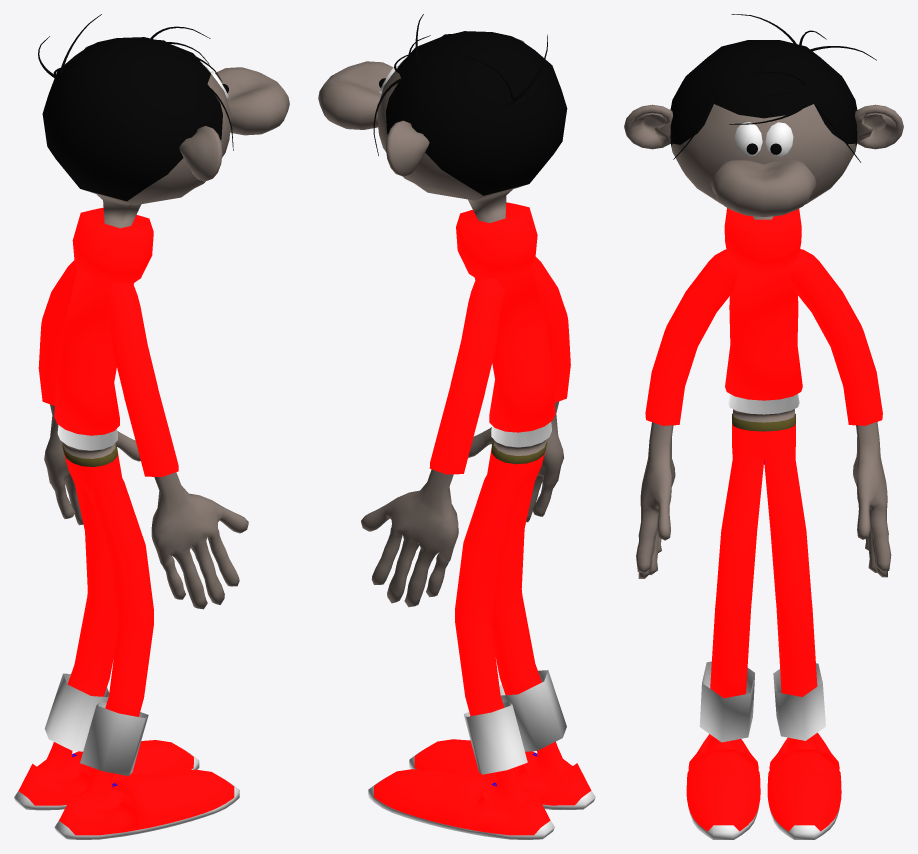
Rendered from spectator_red_short.dae.
3 views of the same model, side by side, from view 1: azimuth 30°, elevation 25°; view 2: azimuth 150°, elevation 25°; view 3: azimuth 270°, elevation 25° (orthographic).
Parts seen in each view (by area): view 1: Spectator; view 2: Spectator; view 3: Spectator.
Part boxes in pixels (x1,y1,x2,y2): Spectator: [14, 14, 289, 839]; Spectator: [318, 14, 595, 839]; Spectator: [624, 14, 903, 839].
Bounding box in the file's own units: 0.4 × 0.4 × 1.2.
